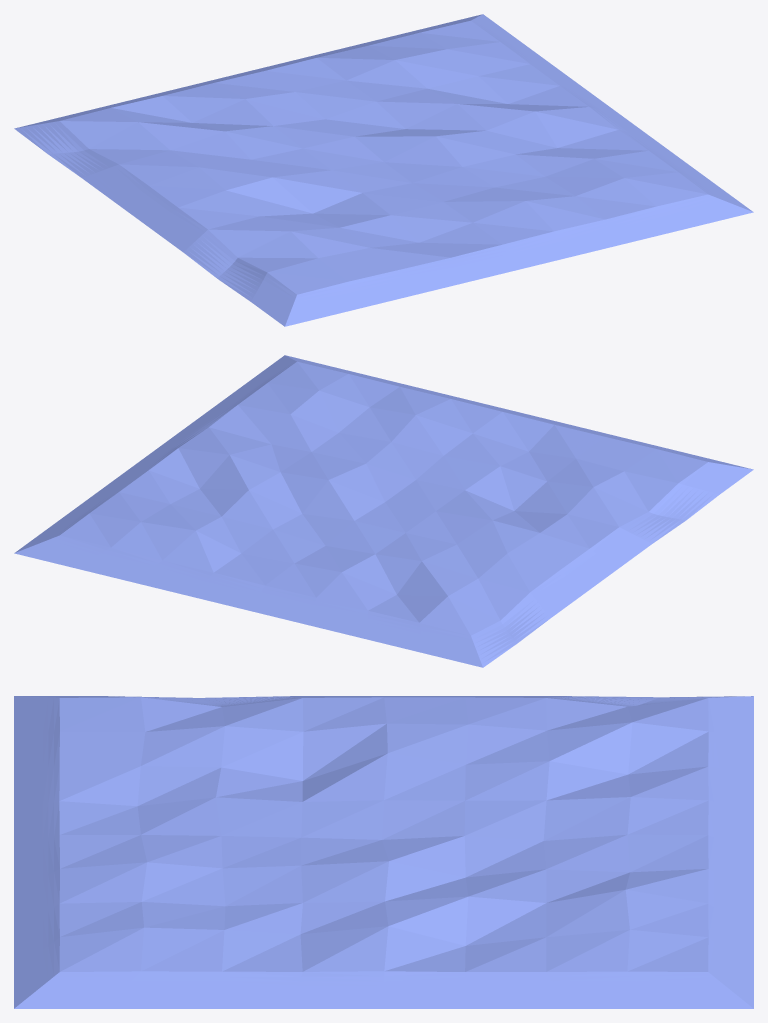
The picture shows the model from 3 angles, top to bottom: view 1: azimuth 30°, elevation 25°; view 2: azimuth 150°, elevation 25°; view 3: azimuth 270°, elevation 25°; orthographic projection. The views are drawn at different scales.
Parts seen in each view (by area): view 1: Cube.021; view 2: Cube.021; view 3: Cube.021.
Part boxes in pixels (x1,y1,x2,y2): Cube.021: (14, 14, 753, 326); Cube.021: (14, 355, 753, 667); Cube.021: (14, 696, 753, 1008).
Size of the model in its own units: 97.82 by 97.82 by 4.52.
